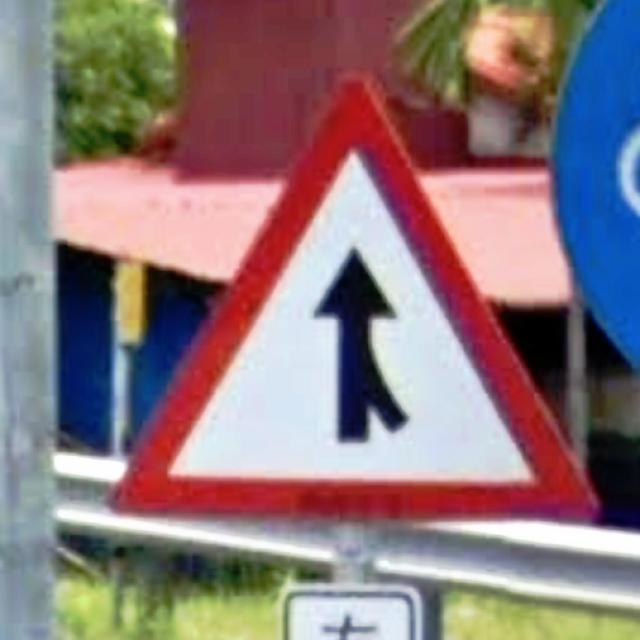rightmerge: (108, 74, 603, 522)
